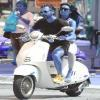motorcycles: (11, 29, 95, 100)
